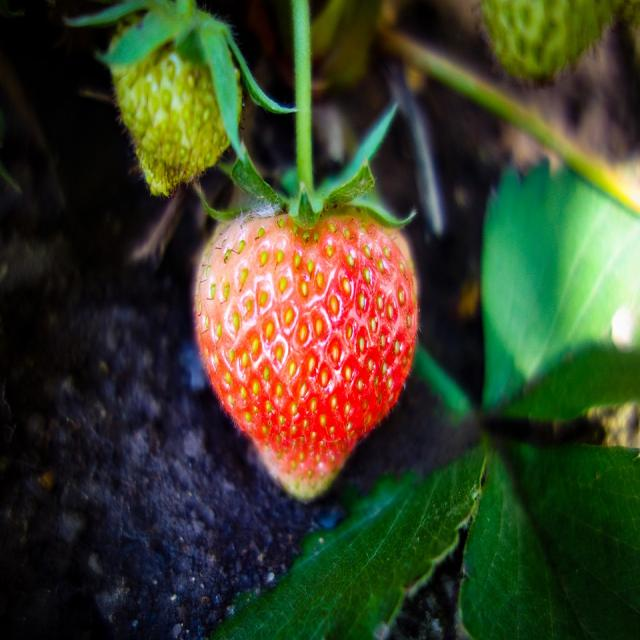immature: (111, 16, 242, 190)
mature: (195, 202, 417, 498)
